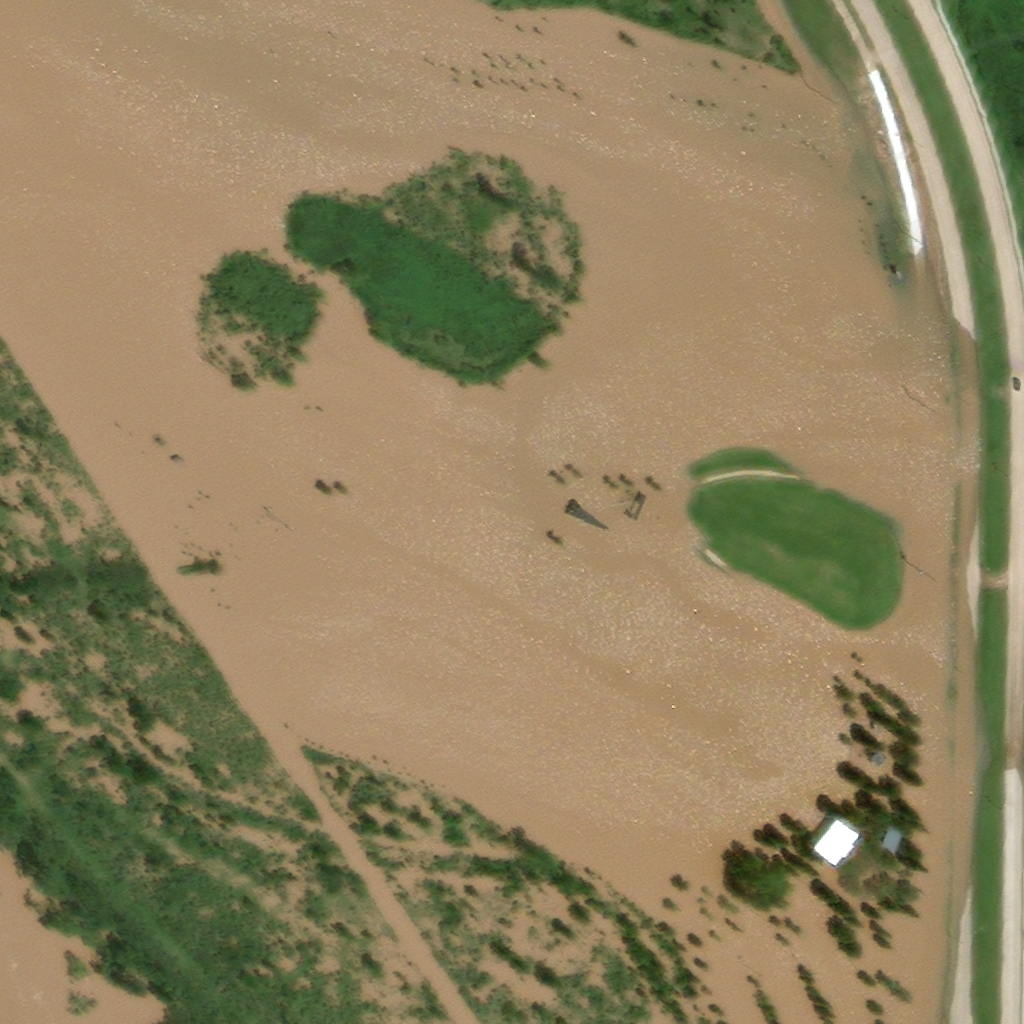destroyed: (565, 504, 586, 524), (865, 747, 885, 767)
major_damage: (807, 816, 855, 868), (875, 824, 901, 850)
